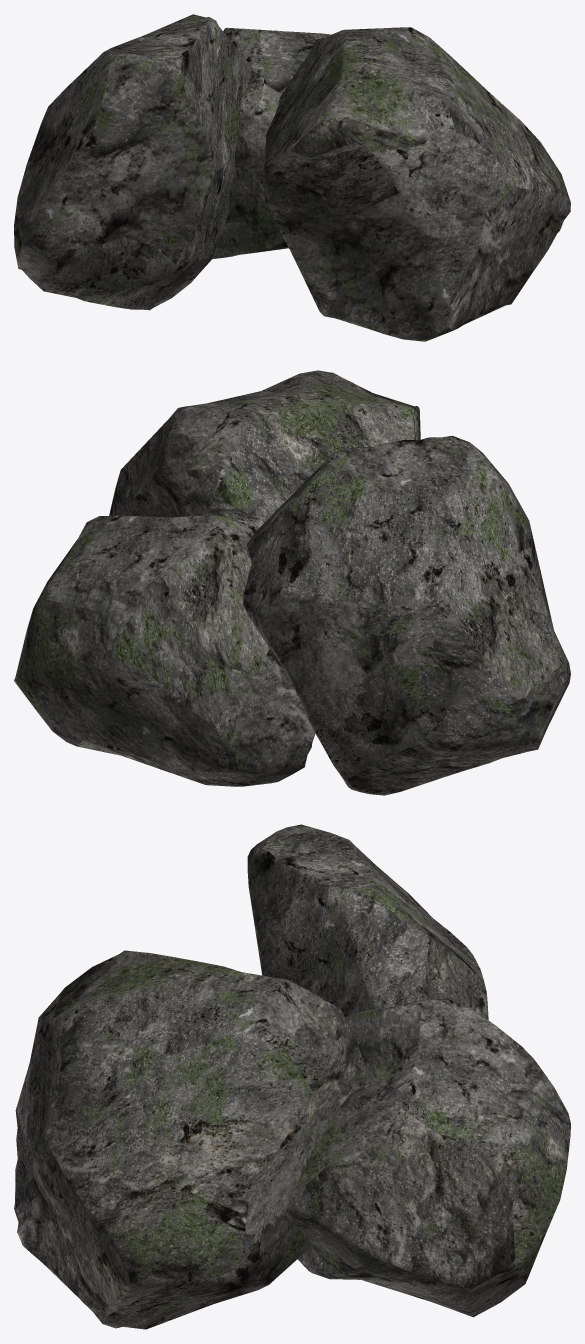
The model's file is Piedra2.fbx.
3 views of the same model, one above another, from view 1: azimuth 30°, elevation 25°; view 2: azimuth 150°, elevation 25°; view 3: azimuth 270°, elevation 25° (orthographic). The views are drawn at different scales.
Visible parts, largest first — view 1: Object_42; view 2: Object_42; view 3: Object_42.
Part boxes in pixels (x1,y1,x2,y2): Object_42: (14,14,570,341); Object_42: (14,370,570,795); Object_42: (14,824,570,1329).
Bounding box in the file's own units: 239 × 143 × 205.
Materials: 1 (1 with a texture image).
